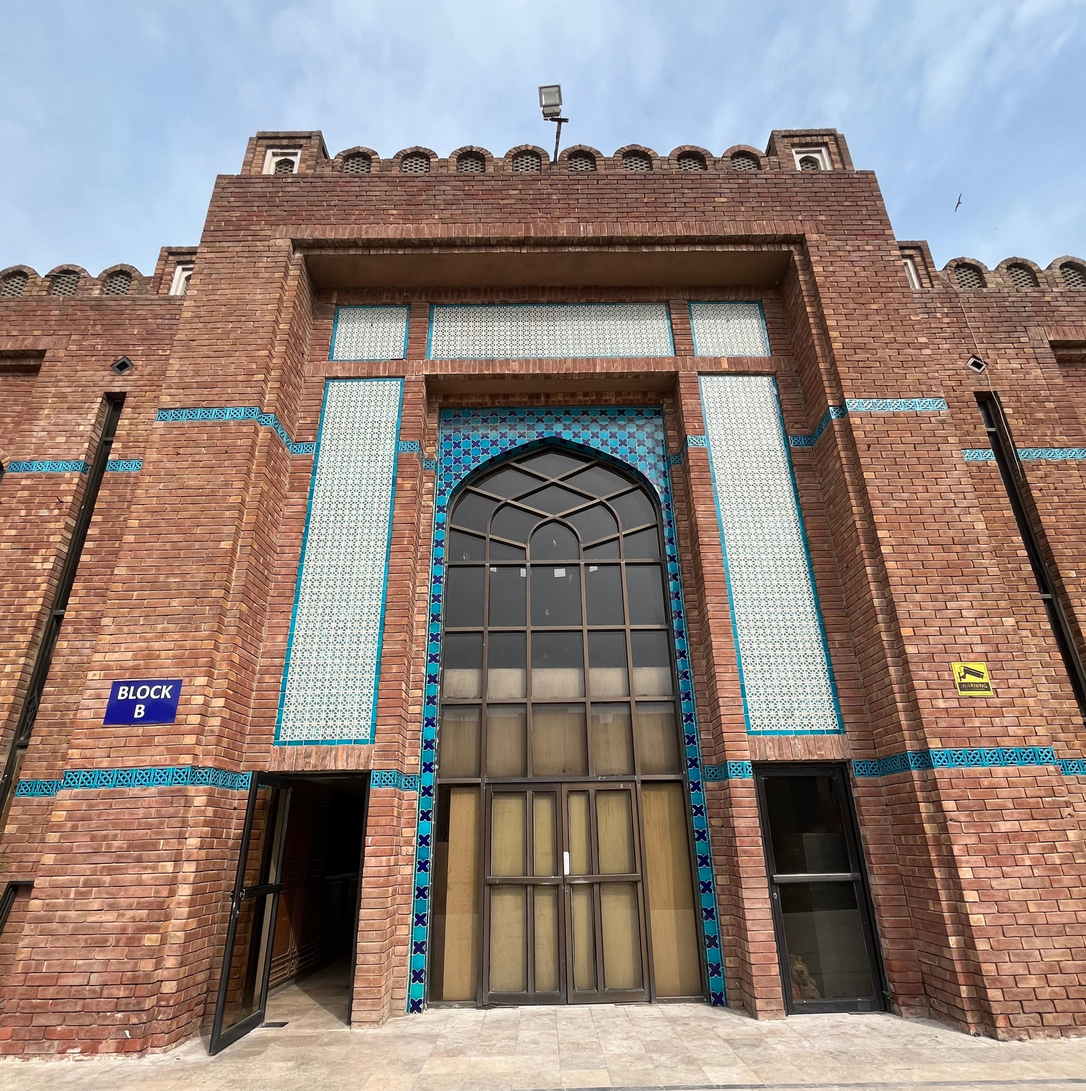Block B: (3, 78, 1086, 1080)
